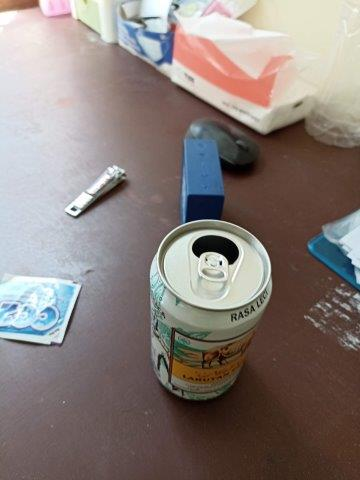kaleng: (148, 221, 275, 401)
